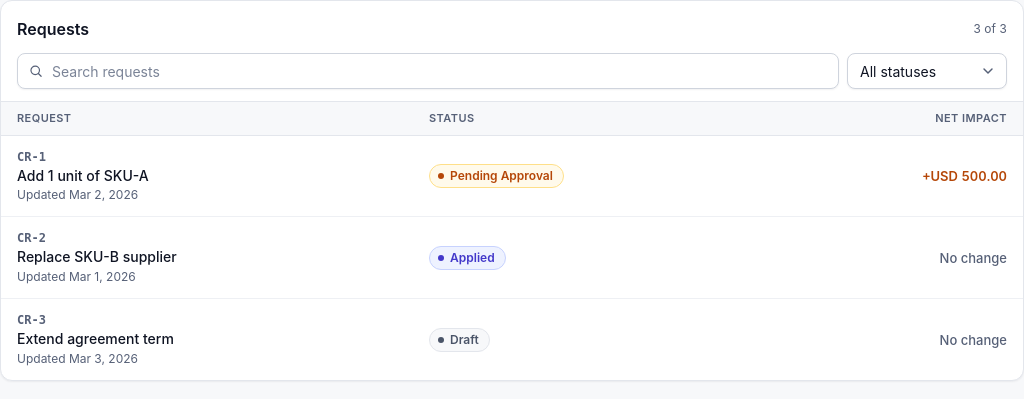
Test: CrListComponent › shows a filtered no-results message without replacing the loaded organization state
Select "Cancelled" in the dropdown with class "cr-list__filter". click: (927, 71)
box: left=847, top=53, right=1007, bottom=89
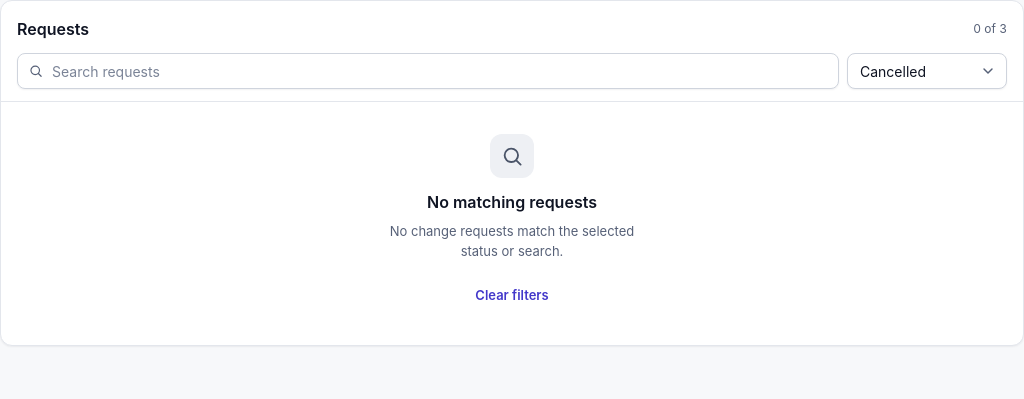
Expected: the message with class "cr-list__no-results" shows "No change requests match", left=390, top=223, right=634, bottom=258
Expected: the table with class "cr-list__table" is gone
